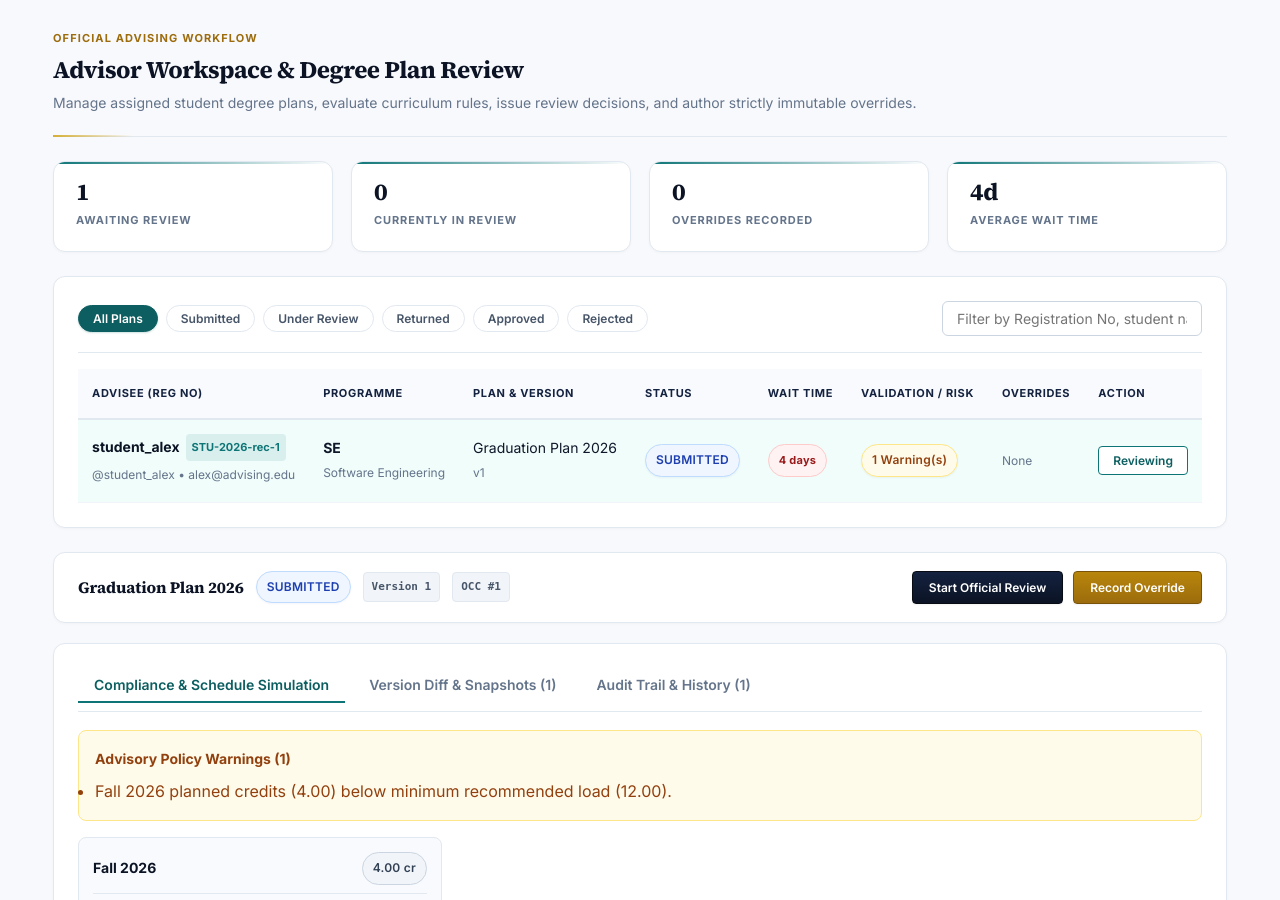
Test: AdvisorWorkspacePage › handles optimistic concurrency conflict (409) with error banner
Step 1. Click the button "Start Official Review" → click(988, 587), box 912,571 -> 1063,604
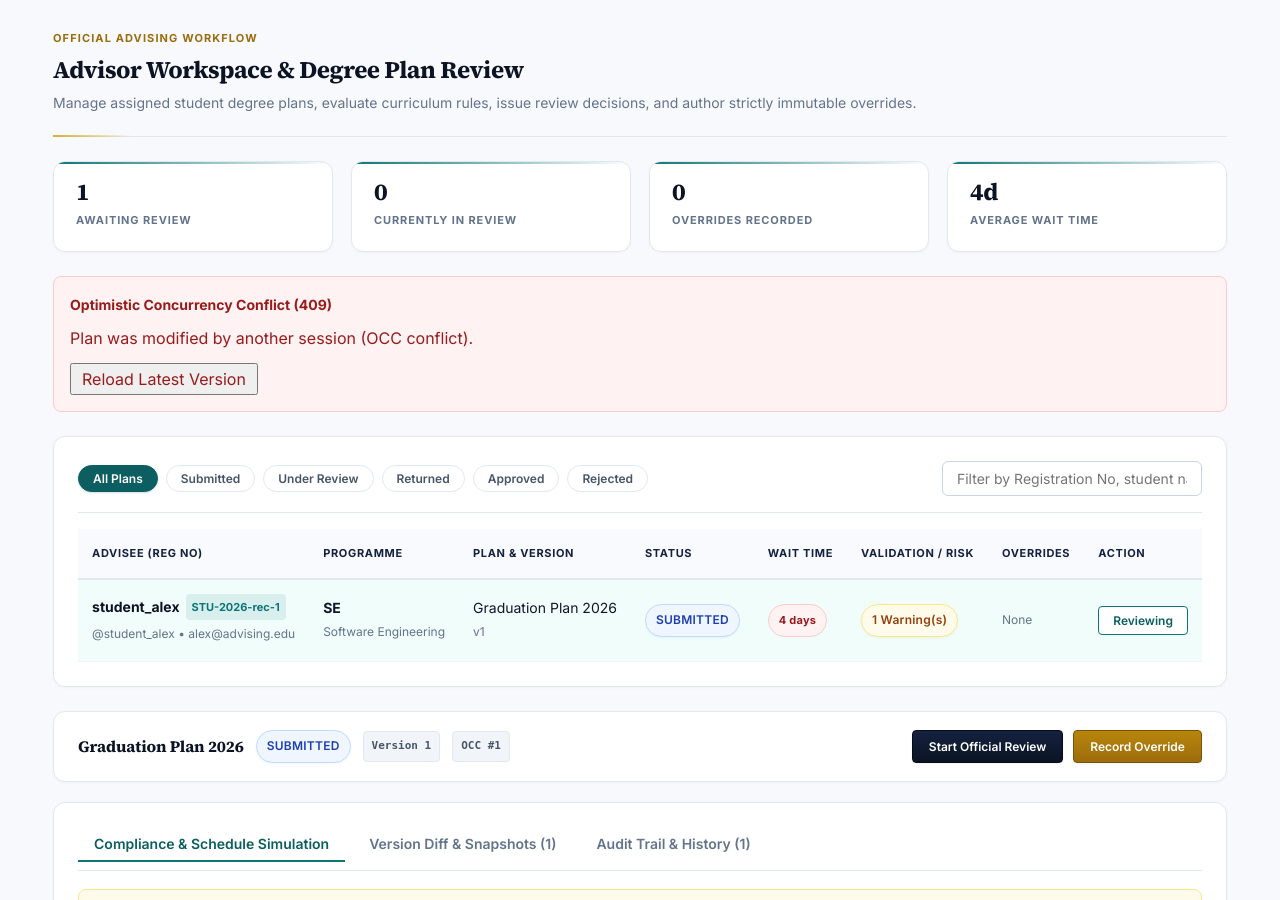
expect the text "Optimistic Concurrency Conflict (409)" is shown: met, box 70,296 -> 332,313
expect the text "Plan was modified by another session (OCC conflict)." is shown: met, box 70,328 -> 473,348
